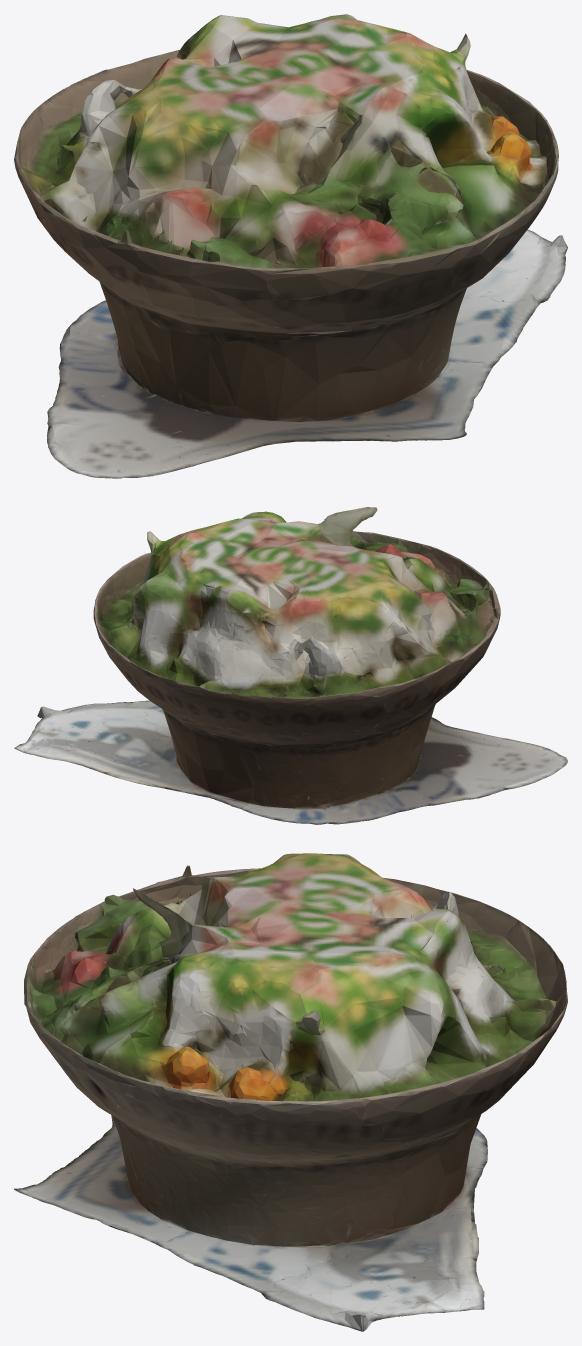
File: thai.glb
The picture shows the model from 3 angles, top to bottom: view 1: azimuth 30°, elevation 25°; view 2: azimuth 150°, elevation 25°; view 3: azimuth 270°, elevation 25°; orthographic projection. The views are drawn at different scales.
Visible parts, largest first — view 1: world; view 2: world; view 3: world.
Boxes of the visible parts, <box> form: world: <box>14,14,567,478</box>; world: <box>14,507,567,824</box>; world: <box>14,853,567,1331</box>.
Bounding box in the file's own units: 0.9937 × 0.4448 × 0.7921.
Materials: 1 (1 with a texture image).
